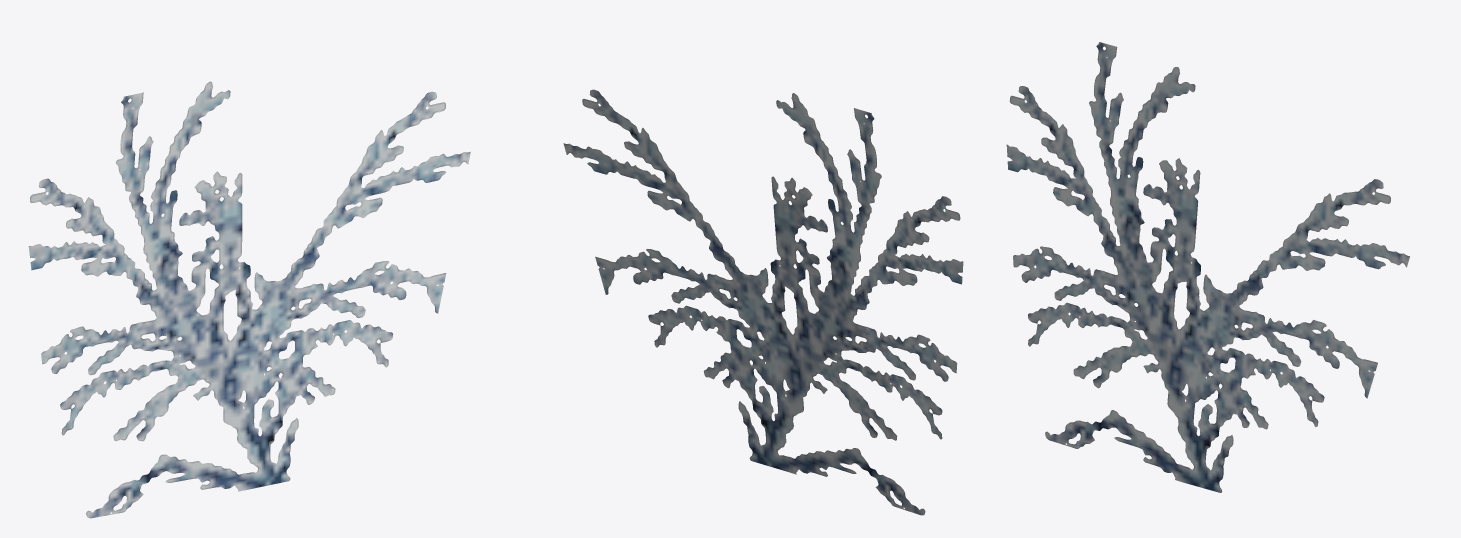
File: bs_cao_2.FBX
3 renders of one model, left to right at view 1: azimuth 30°, elevation 25°; view 2: azimuth 150°, elevation 25°; view 3: azimuth 330°, elevation 25°, orthographic.
Parts seen in each view (by area): view 1: bs_cao_2; view 2: bs_cao_2; view 3: bs_cao_2.
Boxes of the visible parts, x1,y1,x2,y2 form: bs_cao_2: (28,81,470,518); bs_cao_2: (563,89,963,515); bs_cao_2: (1006,42,1409,492).
Bounding box in the file's own units: 1076 × 898 × 124.
